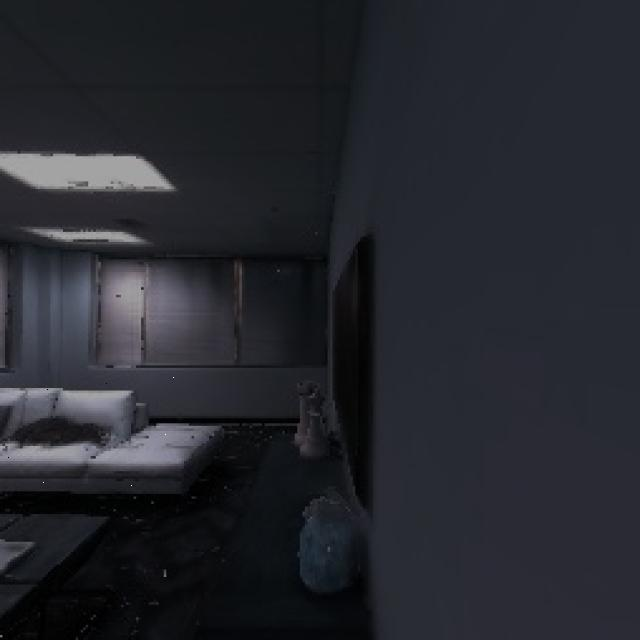sofa: (0, 364, 238, 508)
